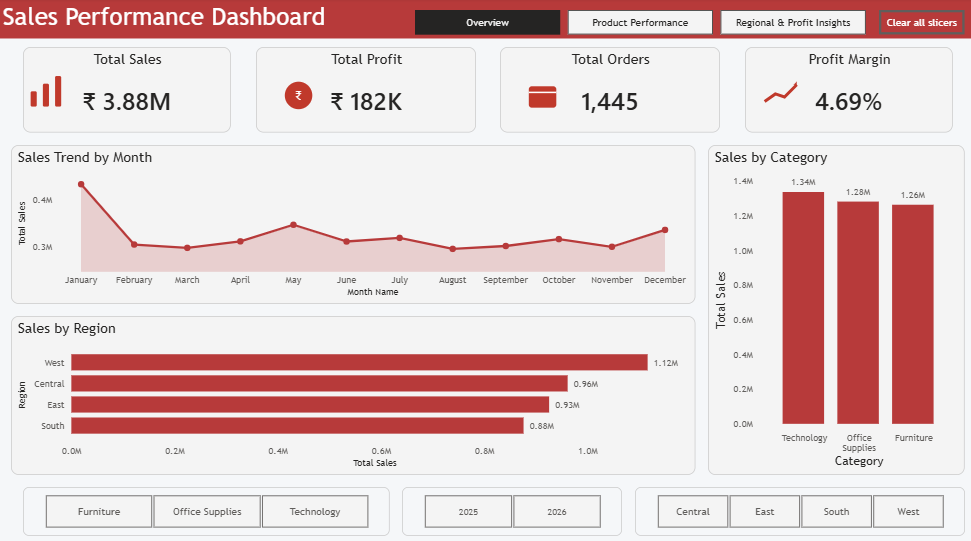

Layout of this report page (visuals, bound fields, positions):
{"tool":"powerbi","page":{"name":"Overview","canvas":[1280,720],"ordinal":0},"visuals":[{"type":"cardVisual","title":"Total Sales","fields":{"Data":["Sum(Sales_Data.Sales)"]},"box":[32,64,272,112],"z":0},{"type":"cardVisual","title":"Total Profit","fields":{"Data":["Sum(Sales_Data.Profit)"]},"box":[336,64,288,112],"z":1000},{"type":"cardVisual","title":"Total Orders","fields":{"Data":["Count(Sales_Data.Order ID)"]},"box":[656,64,288,112],"z":2000},{"type":"cardVisual","title":"Profit Margin","fields":{"Data":["Sales_Data.Profit Margin %"]},"box":[976,64,272,112],"z":3000},{"type":"lineChart","title":"Sales Trend by Month ","fields":{"Category":["Sales_Data.Month Name"],"Y":["Sum(Sales_Data.Sales)"]},"box":[16,192,896,208],"z":4000},{"type":"clusteredBarChart","title":"Sales by Region","fields":{"Category":["Sales_Data.Region"],"Y":["Sum(Sales_Data.Sales)"]},"box":[16,416,896,208],"z":5000},{"type":"clusteredColumnChart","title":"Sales by Category","fields":{"Category":["Sales_Data.Category"],"Y":["Sum(Sales_Data.Sales)"]},"box":[928,192,336,432],"z":6000},{"type":"slicer","fields":{"Values":["Sales_Data.Region"]},"box":[832,640,432,64],"z":7000},{"type":"slicer","fields":{"Values":["Sales_Data.Category"]},"box":[32,640,480,64],"z":8000},{"type":"textbox","box":[0,0,1280,53],"z":9000},{"type":"pageNavigator","box":[544,16,592,32],"z":10000},{"type":"actionButton","box":[1152,16,112,32],"z":11000},{"type":"slicer","fields":{"Values":["Sales_Data.Year"]},"box":[528,640,288,64],"z":11001},{"type":"image","box":[32,64,64,112],"z":11002},{"type":"image","box":[352,96,80,64],"z":11003},{"type":"image","box":[672,96,80,64],"z":11004},{"type":"image","box":[992,96,64,64],"z":11005}]}

Visuals, with their boxes in screenshot pixels (x1, y1, x2, y2), scaled from the page's 1280x720 canvas onto the 971x541 screenshot:
"Total Sales" cardVisual: bbox=(24, 48, 231, 132)
"Total Profit" cardVisual: bbox=(255, 48, 473, 132)
"Total Orders" cardVisual: bbox=(498, 48, 716, 132)
"Profit Margin" cardVisual: bbox=(740, 48, 947, 132)
"Sales Trend by Month " lineChart: bbox=(12, 144, 692, 301)
"Sales by Region" clusteredBarChart: bbox=(12, 313, 692, 469)
"Sales by Category" clusteredColumnChart: bbox=(704, 144, 959, 469)
slicer - Sales_Data.Region: bbox=(631, 481, 959, 529)
slicer - Sales_Data.Category: bbox=(24, 481, 388, 529)
textbox: bbox=(0, 0, 970, 40)
pageNavigator: bbox=(413, 12, 862, 36)
actionButton: bbox=(874, 12, 959, 36)
slicer - Sales_Data.Year: bbox=(401, 481, 619, 529)
image: bbox=(24, 48, 73, 132)
image: bbox=(267, 72, 328, 120)
image: bbox=(510, 72, 570, 120)
image: bbox=(753, 72, 801, 120)
